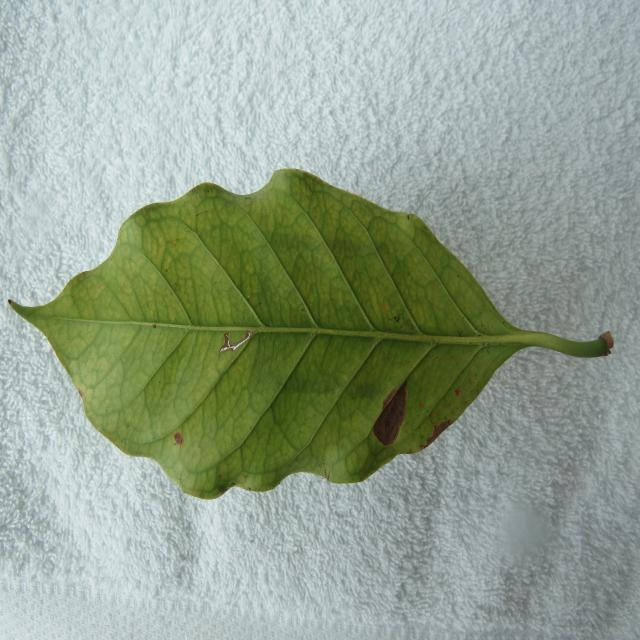DeficienciaNutricional-Calcio: (11, 170, 612, 498)
